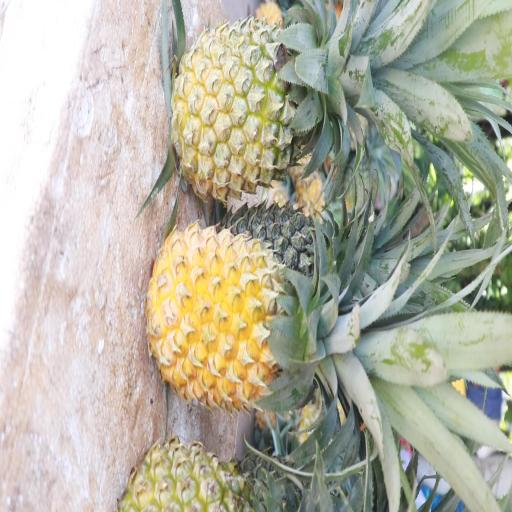------------------------------: (176, 14, 336, 188)
Pineapple - v8 v1: (154, 230, 346, 400)
